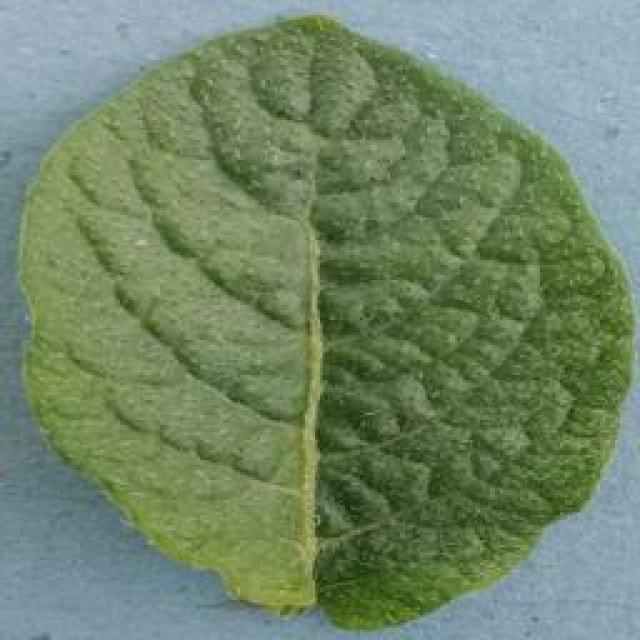Potato_Healthy: (1, 10, 632, 638)
